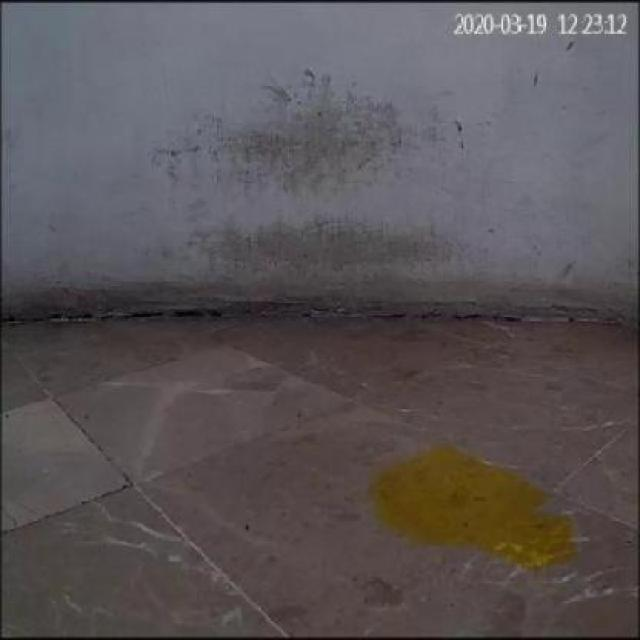spillage: (362, 444, 582, 573)
